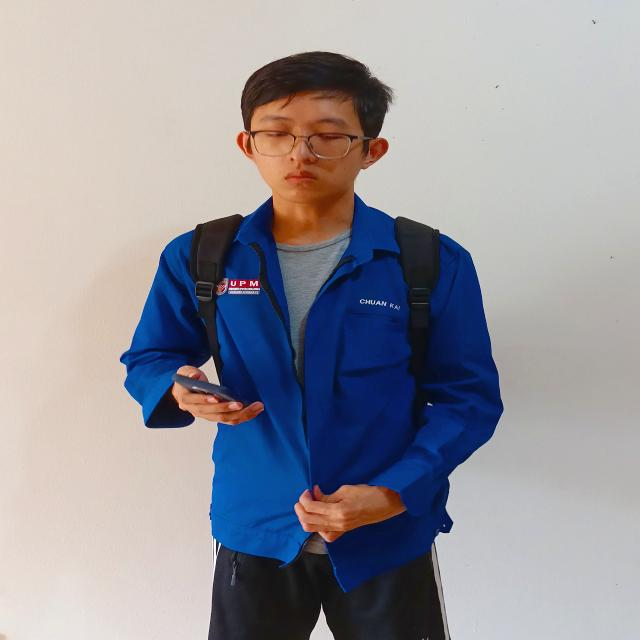person_with_labcoat: (121, 52, 502, 640)
